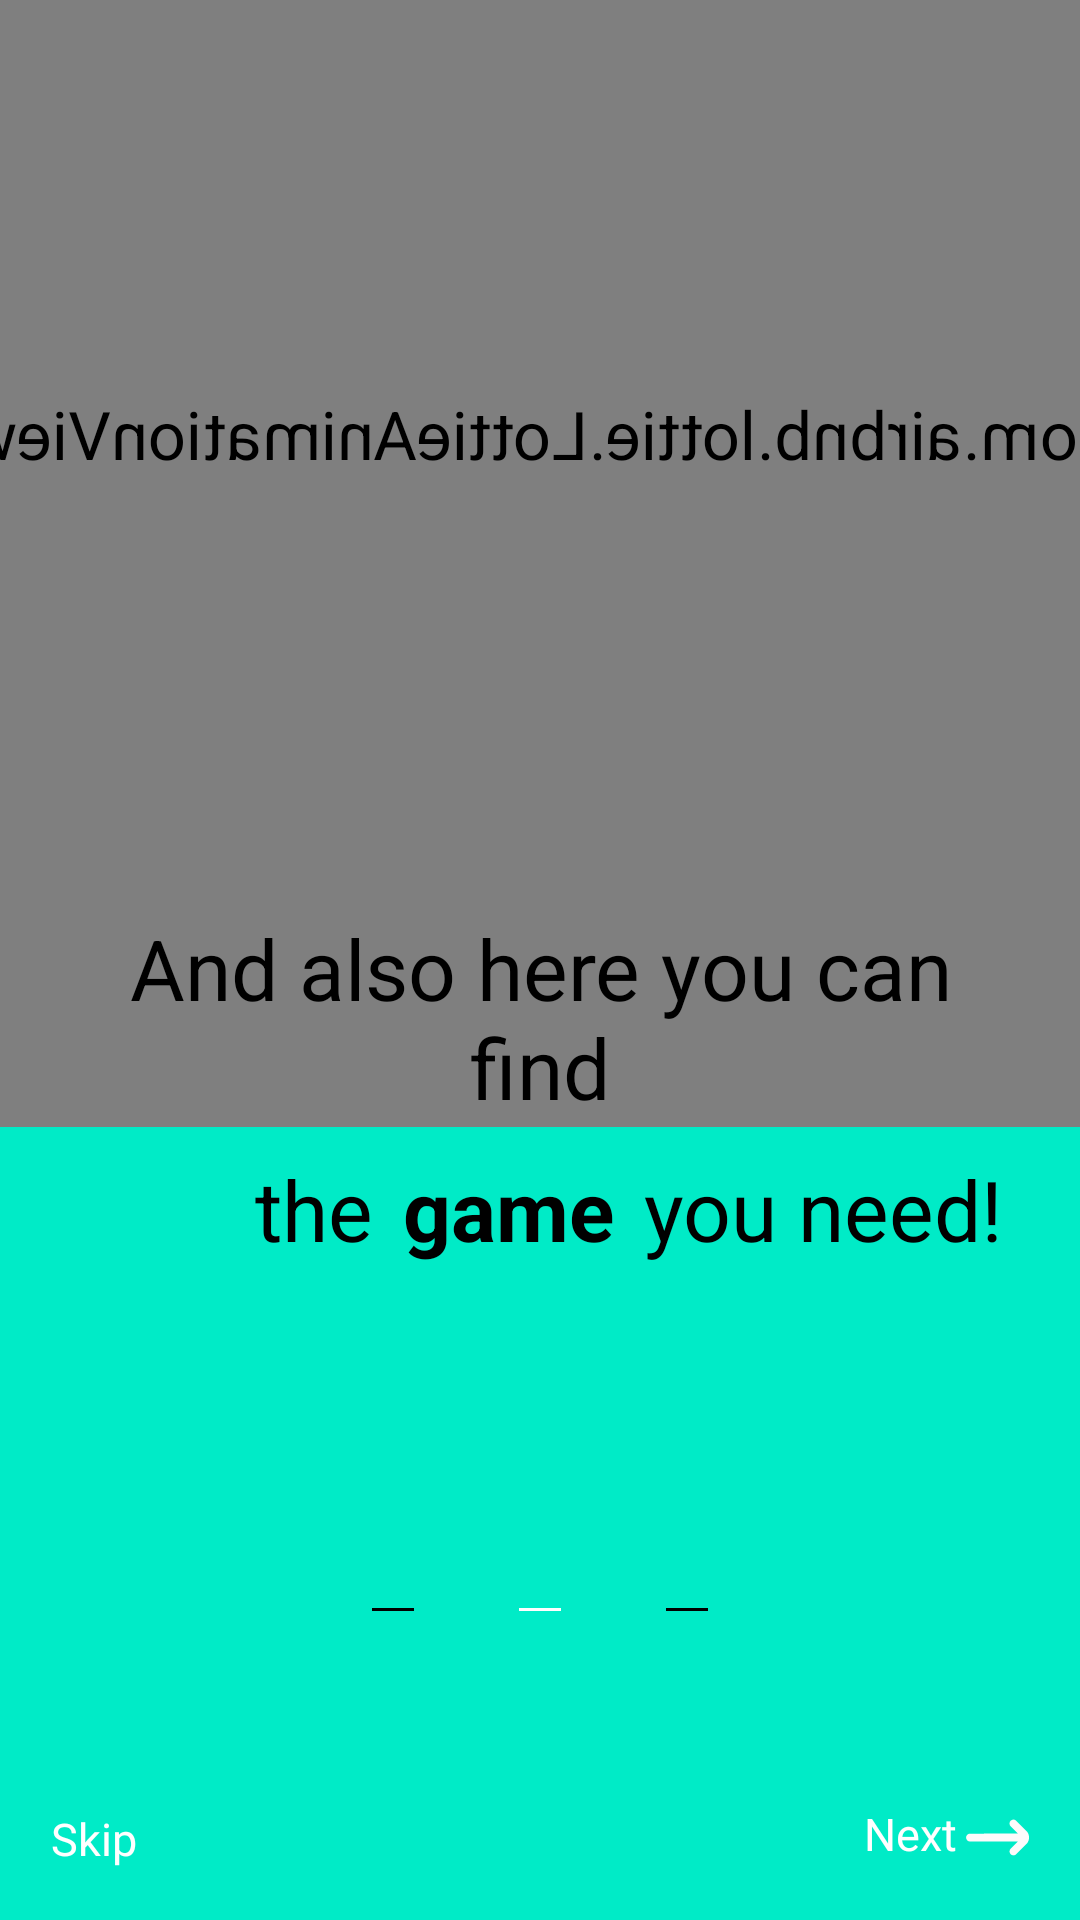

Locate icon controls on the screen. Image size 1080*1920, boxes as (x1=x1, y1=y1, x2=x2, y2=y2).
arrow right: (x1=966, y1=1819, x2=1029, y2=1856)
